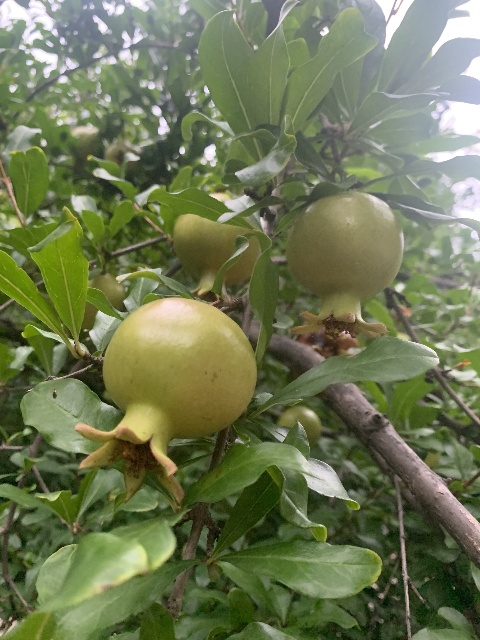mid-growth: (73, 296, 257, 508), (284, 190, 404, 339), (173, 192, 263, 299), (79, 273, 126, 328), (277, 405, 321, 447)
